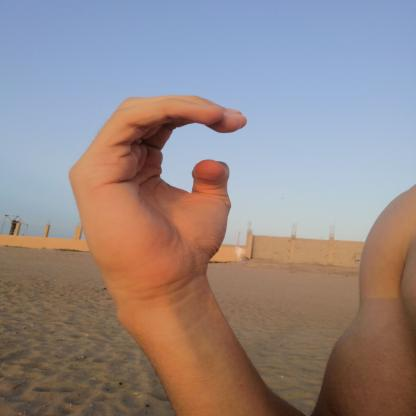JEEM: (46, 78, 257, 304)
